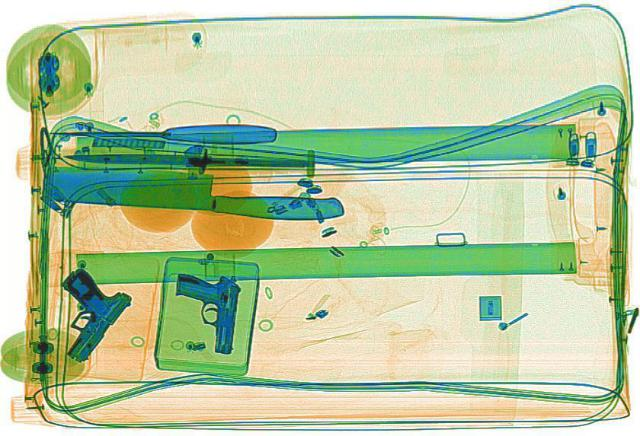Gun: (13, 263, 142, 362), (160, 269, 248, 352)
Knife: (37, 162, 347, 220), (50, 122, 276, 143), (61, 149, 306, 168)
